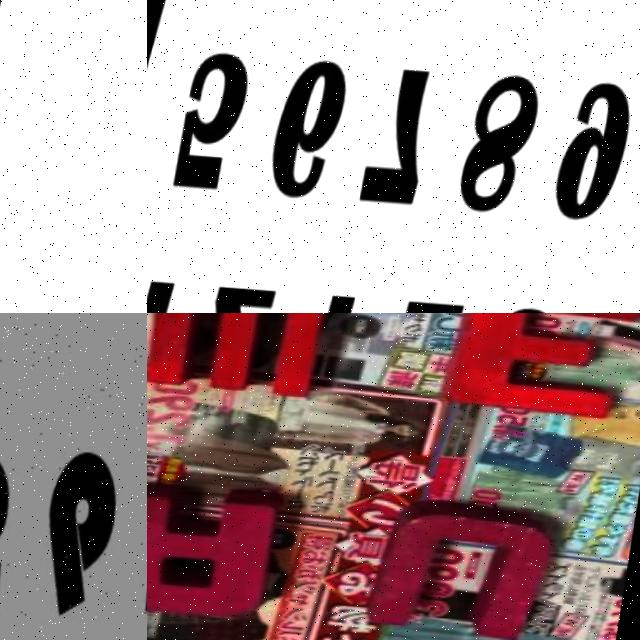1: (279, 268, 382, 313)
5: (161, 31, 272, 214), (0, 431, 44, 640)
6: (24, 429, 147, 640), (259, 52, 366, 215)
7: (355, 43, 463, 224)
8: (448, 64, 561, 242)
9: (546, 56, 640, 244)
A: (147, 485, 296, 618)
E: (455, 313, 640, 419)
U: (368, 498, 572, 639)
W: (148, 313, 341, 397)
